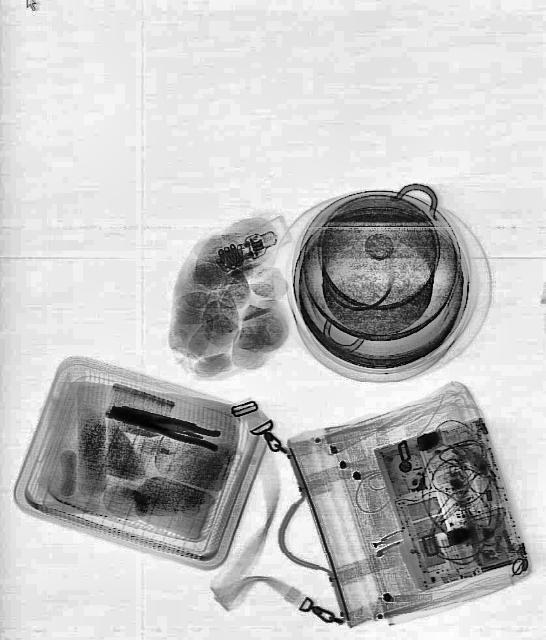Pliers: (108, 394, 224, 454)
